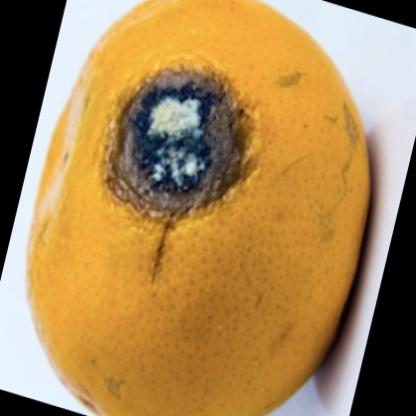rotten: (29, 1, 374, 416)
